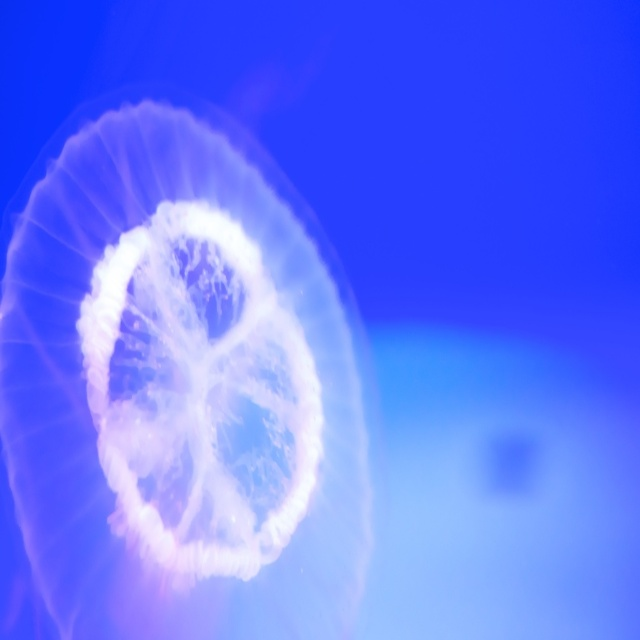Jellyfish: (0, 85, 391, 639)
